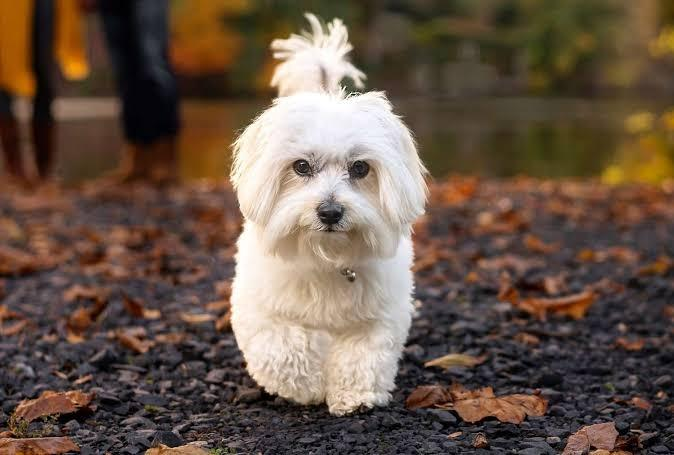adult_dog: (227, 12, 432, 416)
non-dog: (24, 0, 182, 189)
